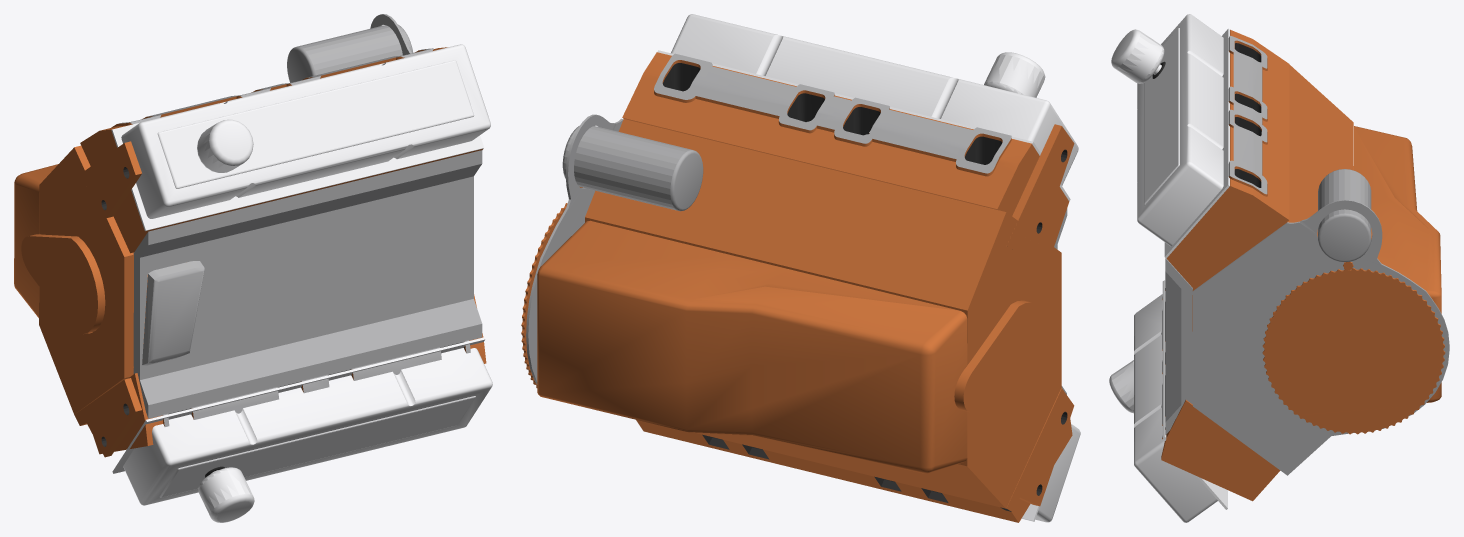
Rendered from engine-sbc.glb.
The picture shows the model from 3 angles, left to right: view 1: azimuth 30°, elevation 25°; view 2: azimuth 150°, elevation 25°; view 3: azimuth 270°, elevation 25°; orthographic projection. The views are drawn at different scales.
Parts seen in each view (by area): view 1: engine_block; view 2: engine_block; view 3: engine_block.
Part boxes in pixels (left/top/right/bottom): engine_block: left=14, top=14, right=492, bottom=522; engine_block: left=521, top=14, right=1080, bottom=522; engine_block: left=1109, top=14, right=1449, bottom=522.
Size of the model in its own units: 3.23 by 3.39 by 2.76.
